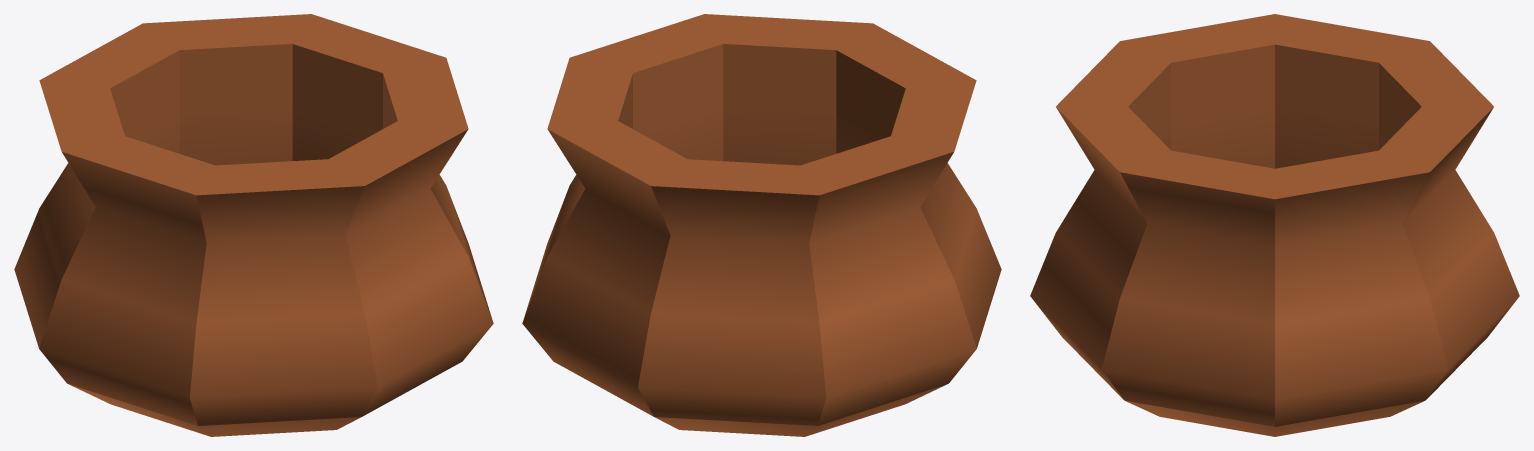
The model's file is pot1.gltf.
3 views of the same model, side by side, from view 1: azimuth 30°, elevation 25°; view 2: azimuth 150°, elevation 25°; view 3: azimuth 270°, elevation 25° (orthographic).
Visible parts, largest first — view 1: pot1; view 2: pot1; view 3: pot1.
Boxes of the visible parts, bbox=[...] form: pot1: bbox=[14, 14, 493, 436]; pot1: bbox=[522, 14, 1001, 436]; pot1: bbox=[1030, 14, 1519, 436].
Bounding box in the file's own units: 1.85 × 1.17 × 1.85.
